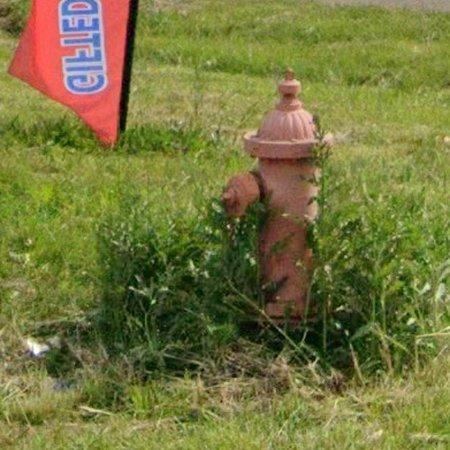a fire hydrant: (222, 70, 320, 324)
